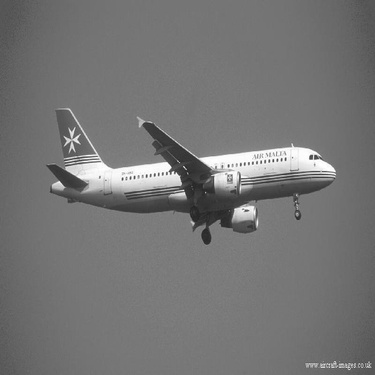airplane: (32, 91, 345, 262)
